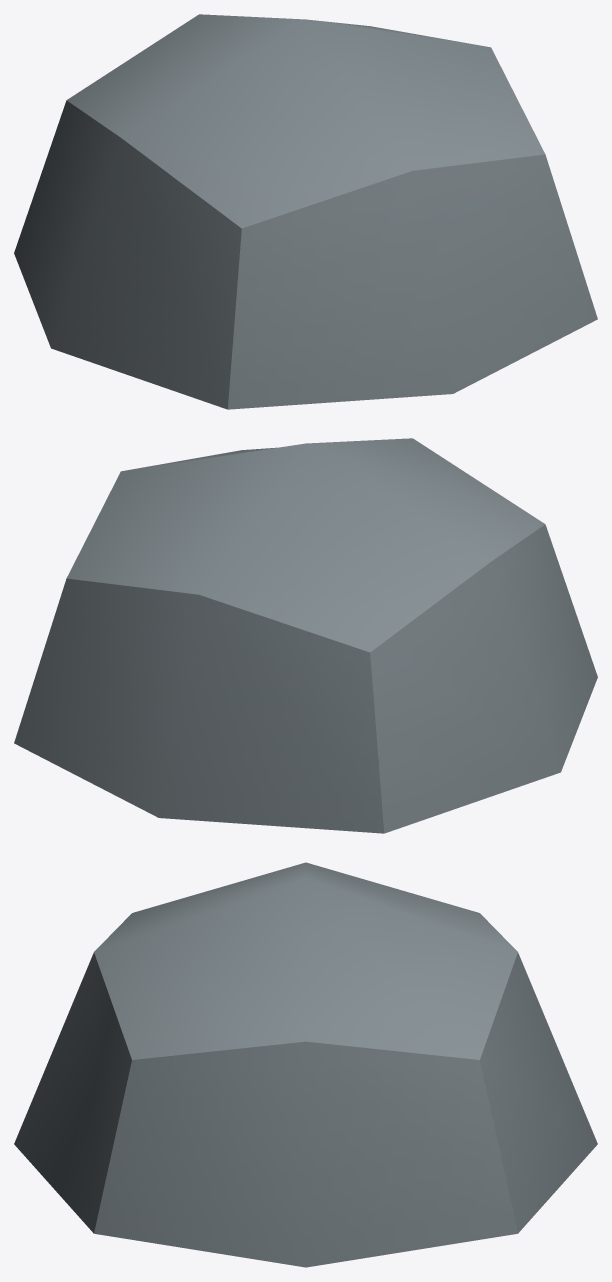
Rendered from Rock_5_A_Color1.fbx.
3 views of the same model, one above another, from view 1: azimuth 30°, elevation 25°; view 2: azimuth 150°, elevation 25°; view 3: azimuth 270°, elevation 25° (orthographic).
Visible parts, largest first — view 1: Rock_5_A_Color1; view 2: Rock_5_A_Color1; view 3: Rock_5_A_Color1.
Part boxes in pixels (x1=…): Rock_5_A_Color1: x1=14, y1=14, x2=597, y2=409; Rock_5_A_Color1: x1=14, y1=438, x2=597, y2=833; Rock_5_A_Color1: x1=14, y1=862, x2=597, y2=1267.
Size of the model in its own units: 0.1899 by 0.095 by 0.1899.
